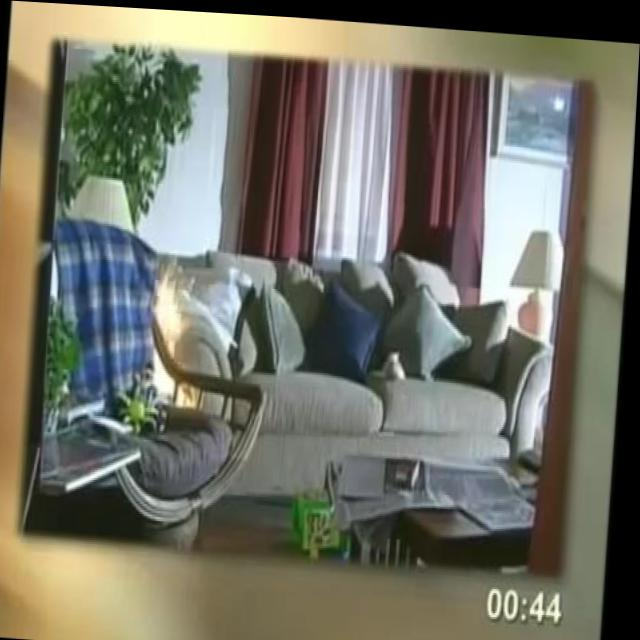fire: (151, 265, 215, 411)
